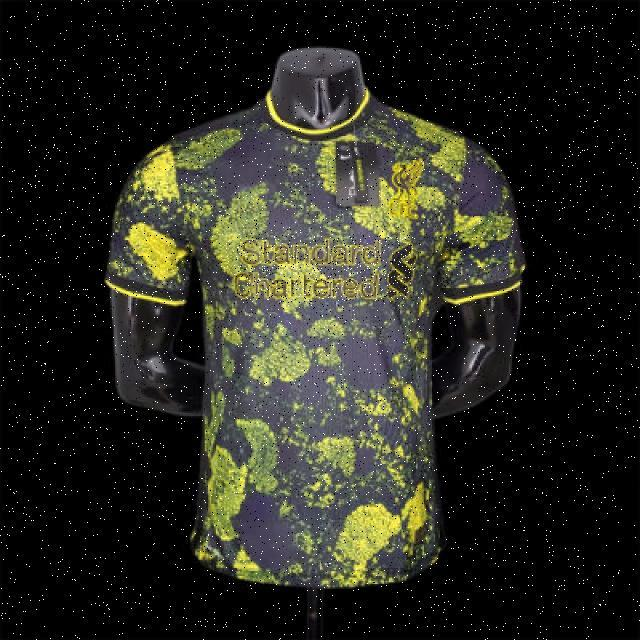Standard Chartered: (236, 236, 415, 302)
